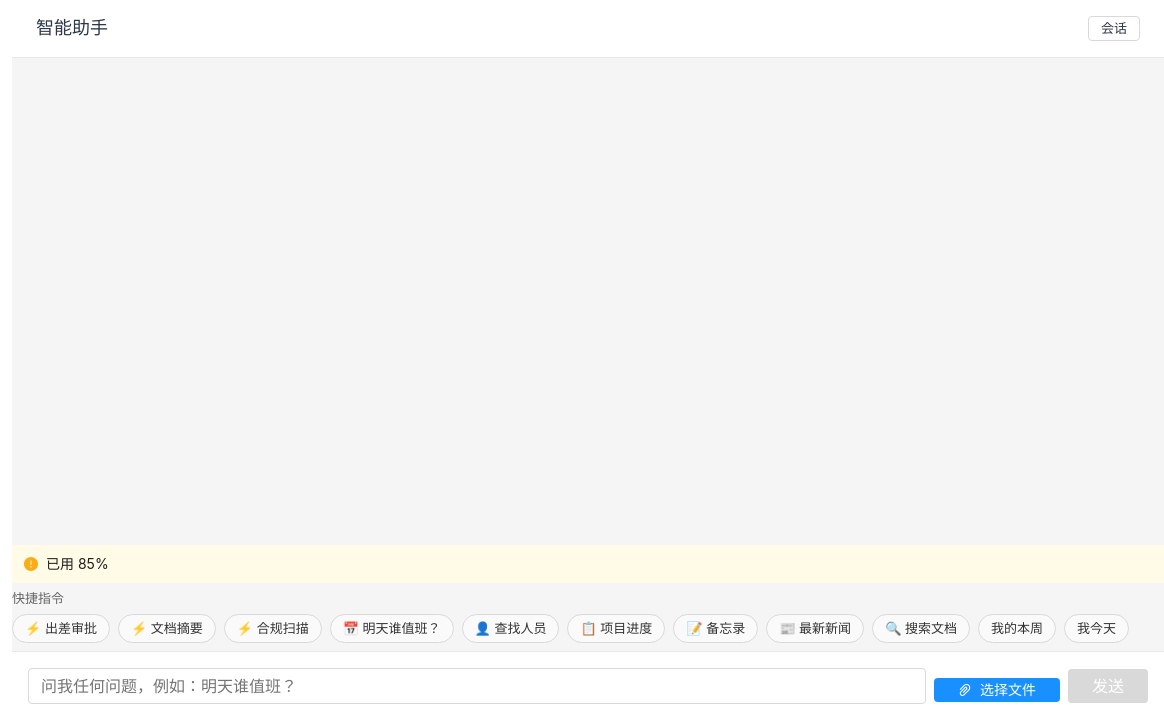
SmartChatPage 额度提示条 › session 事件 budget 为 null → 隐藏提示条
The image size is (1164, 720).
Expected: the message "已用 85%" is shown, x1=12 y1=545 x2=1163 y2=583
Type "你好" into the field with placeholder "问我任何问题，例如：明天谁值班？" at (477, 686), box x1=28 y1=668 x2=926 y2=704
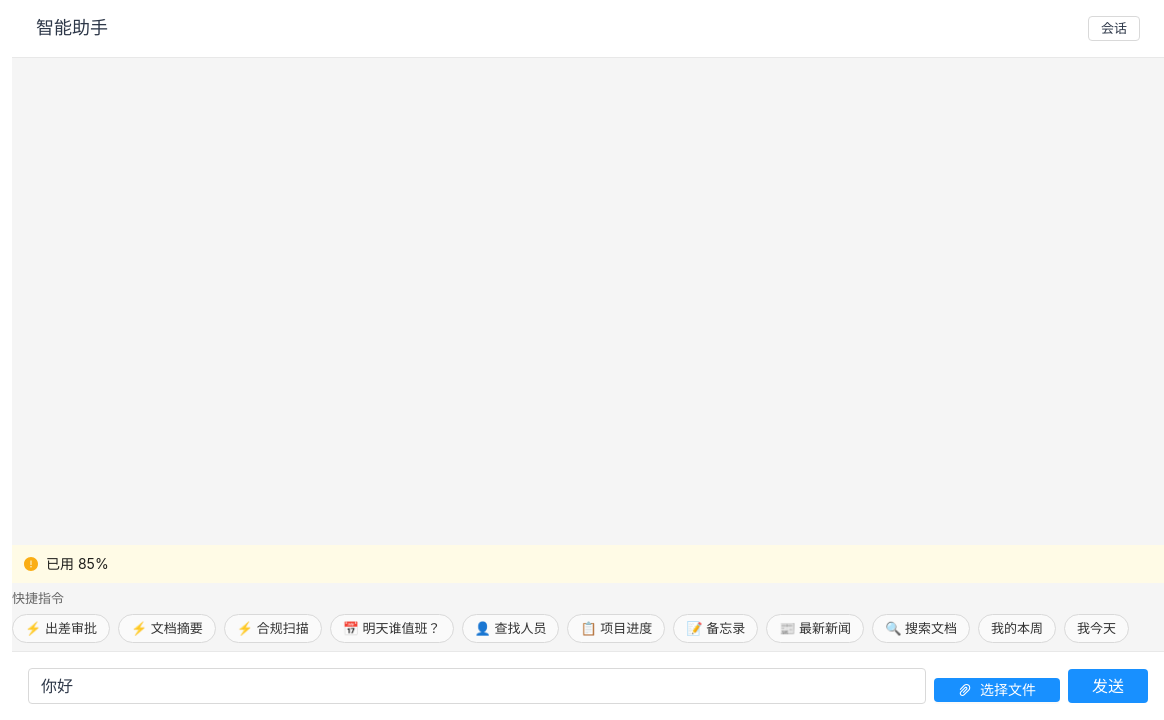
Click the button "发送" at (1108, 686), box x1=1068 y1=669 x2=1148 y2=703
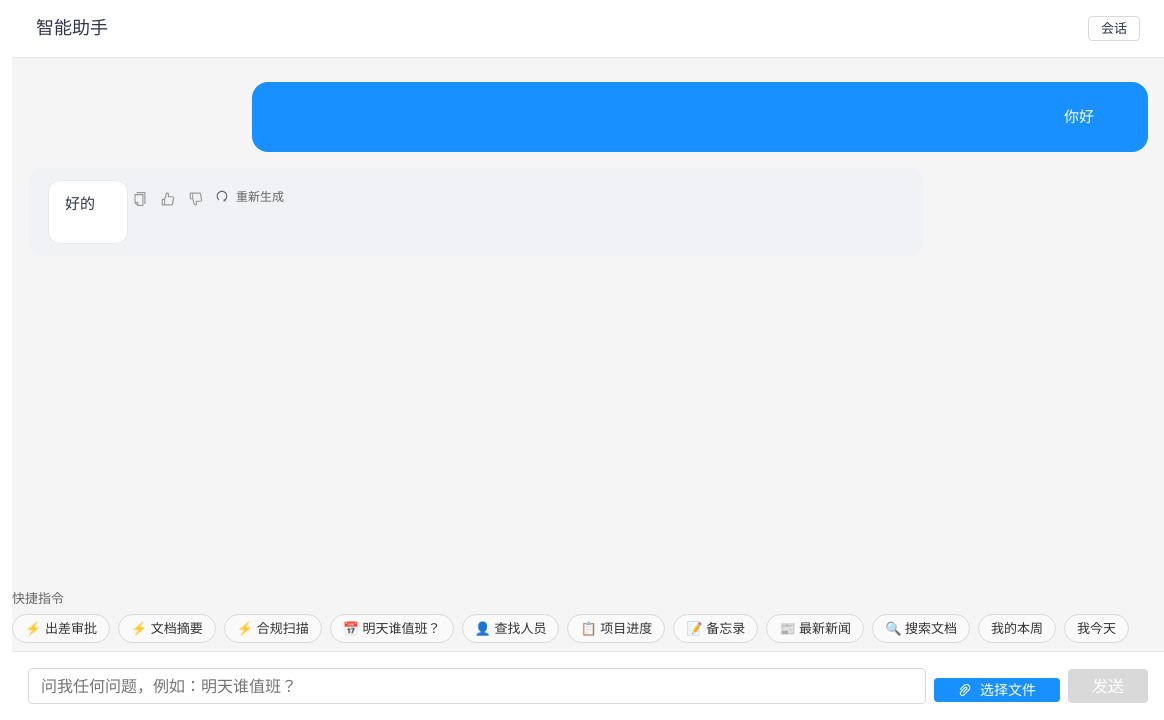
Result: the message with test id "budget-notice" is gone
